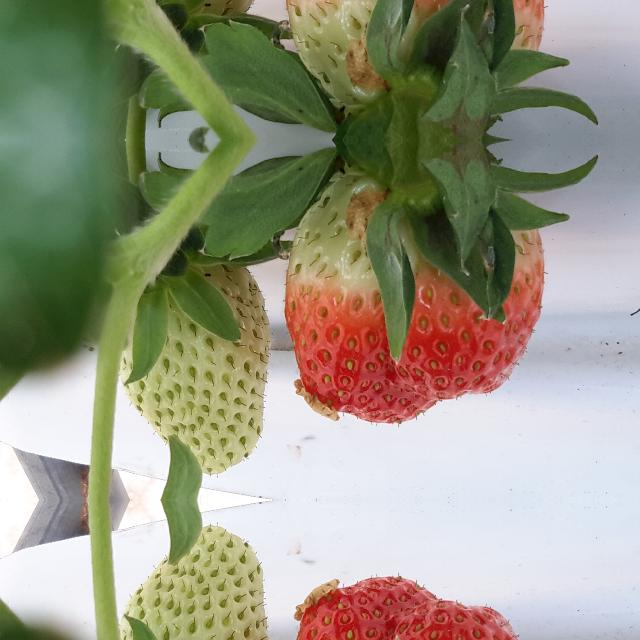Health_100: (284, 175, 546, 422), (284, 0, 545, 104), (284, 577, 545, 640)
